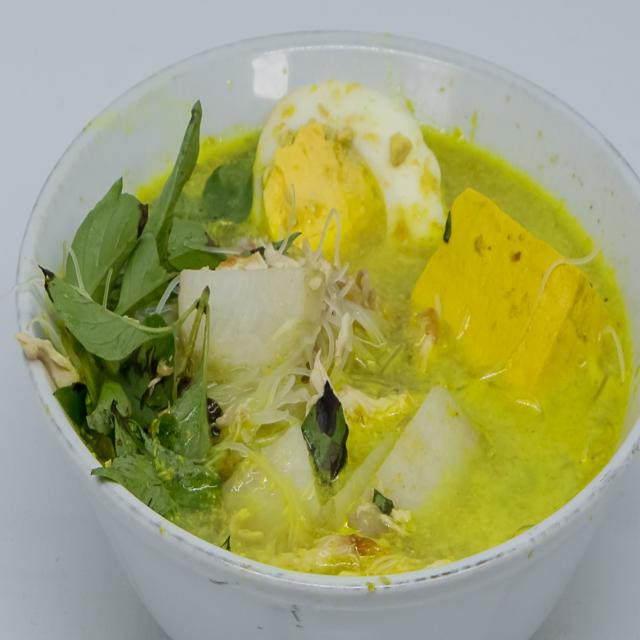Laksa-Bogor: (32, 47, 634, 593)
